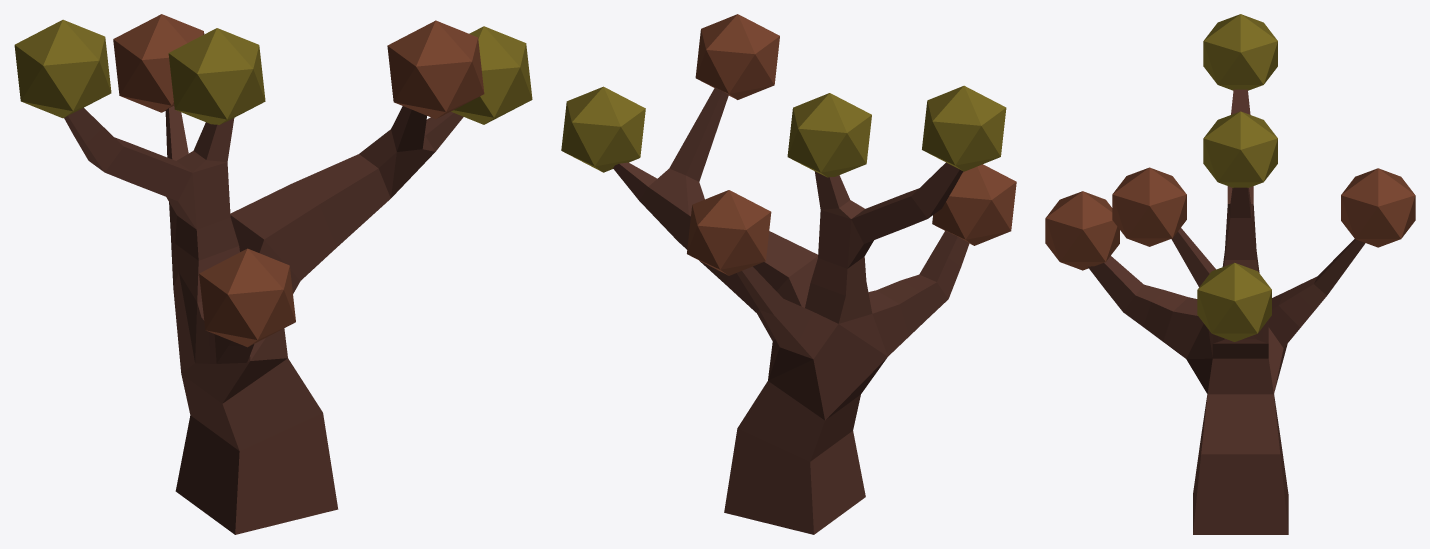
Rendered from Fall_Tree.fbx.
The picture shows the model from 3 angles, left to right: view 1: azimuth 30°, elevation 25°; view 2: azimuth 150°, elevation 25°; view 3: azimuth 270°, elevation 25°; orthographic projection. The views are drawn at different scales.
Parts seen in each view (by area): view 1: Vert.002, Icosphere.012, Icosphere.014, Icosphere.015, Icosphere.013, Icosphere.017, Icosphere.016; view 2: Vert.002, Icosphere.017, Icosphere.014, Icosphere.012, Icosphere.013, Icosphere.016, Icosphere.015; view 3: Vert.002, Icosphere.012, Icosphere.016, Icosphere.017, Icosphere.013, Icosphere.014, Icosphere.015.
Boxes of the visible parts, x1,y1,x2,y2 form: Vert.002: (64, 106, 463, 534); Icosphere.012: (387, 20, 484, 118); Icosphere.014: (14, 19, 111, 118); Icosphere.015: (199, 248, 295, 347); Icosphere.013: (168, 28, 265, 124); Icosphere.017: (113, 14, 204, 112); Icosphere.016: (451, 26, 532, 124); Vert.002: (613, 87, 969, 534); Icosphere.017: (687, 190, 771, 275); Icosphere.014: (922, 85, 1006, 171); Icosphere.012: (695, 14, 779, 99); Icosphere.013: (787, 93, 871, 177); Icosphere.016: (561, 86, 645, 172); Icosphere.015: (932, 164, 1016, 245); Vert.002: (1088, 89, 1365, 534); Icosphere.012: (1112, 167, 1186, 246); Icosphere.016: (1197, 262, 1271, 341); Icosphere.017: (1341, 168, 1415, 247); Icosphere.013: (1203, 111, 1277, 187); Icosphere.014: (1203, 14, 1277, 90); Icosphere.015: (1045, 191, 1119, 270).
Size of the model in its own units: 115 by 116 by 91.33.
